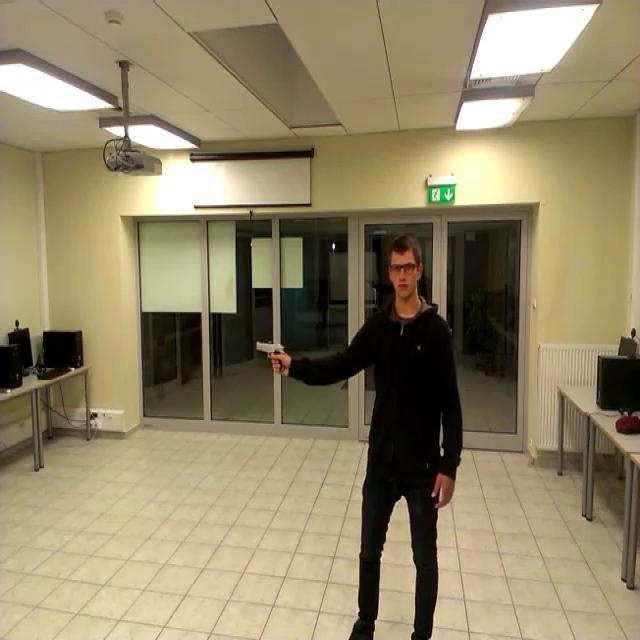Gun: (255, 340, 284, 370)
